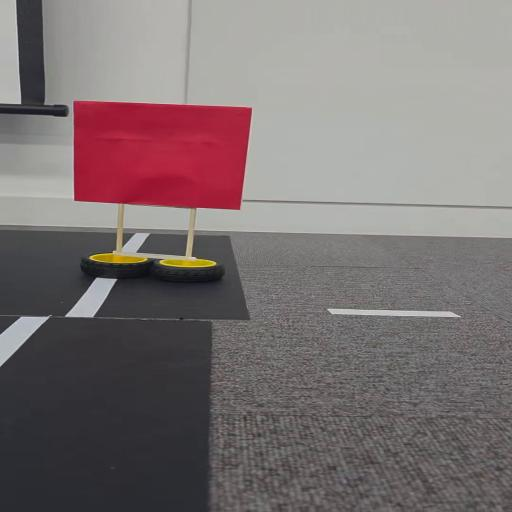Sign_A: (63, 97, 261, 288)
